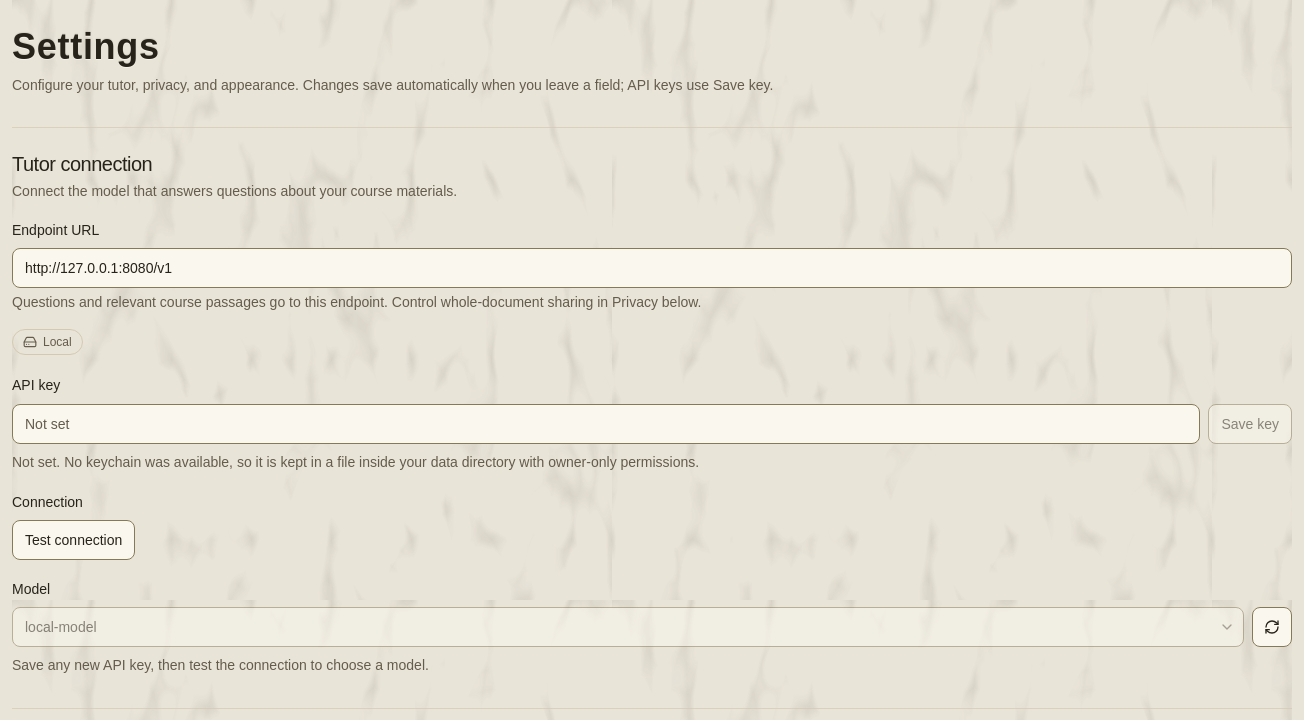
Test: retries the current API key and clears it after successful recovery
Step 1. Type "first-key" into the password field labelled "API key" → (606, 424), box [12, 404, 1200, 444]
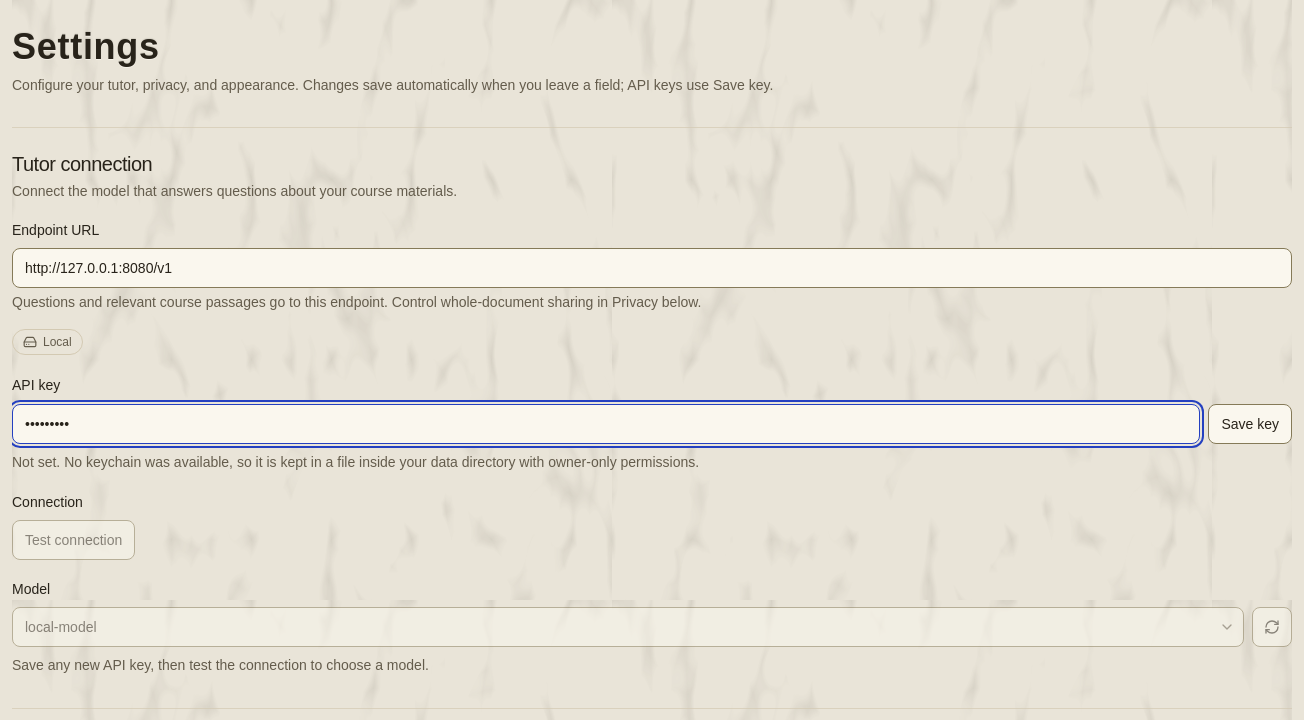
Step 2. Click the button "Save key" → (1250, 424), box [1208, 404, 1292, 444]
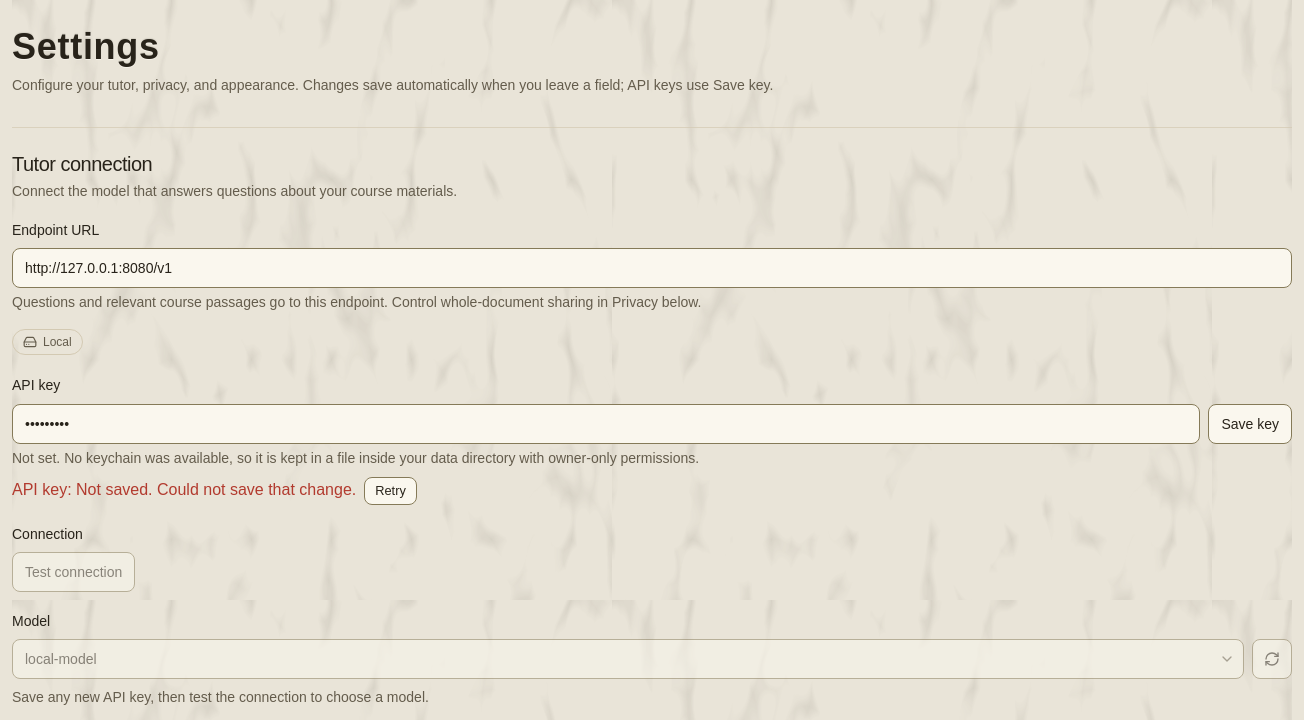
Check: the button with aria-label "Retry API key save" is shown, box [364, 476, 417, 504]
Step 3. Type "corrected-key" into the password field labelled "API key" → (606, 424), box [12, 404, 1200, 444]
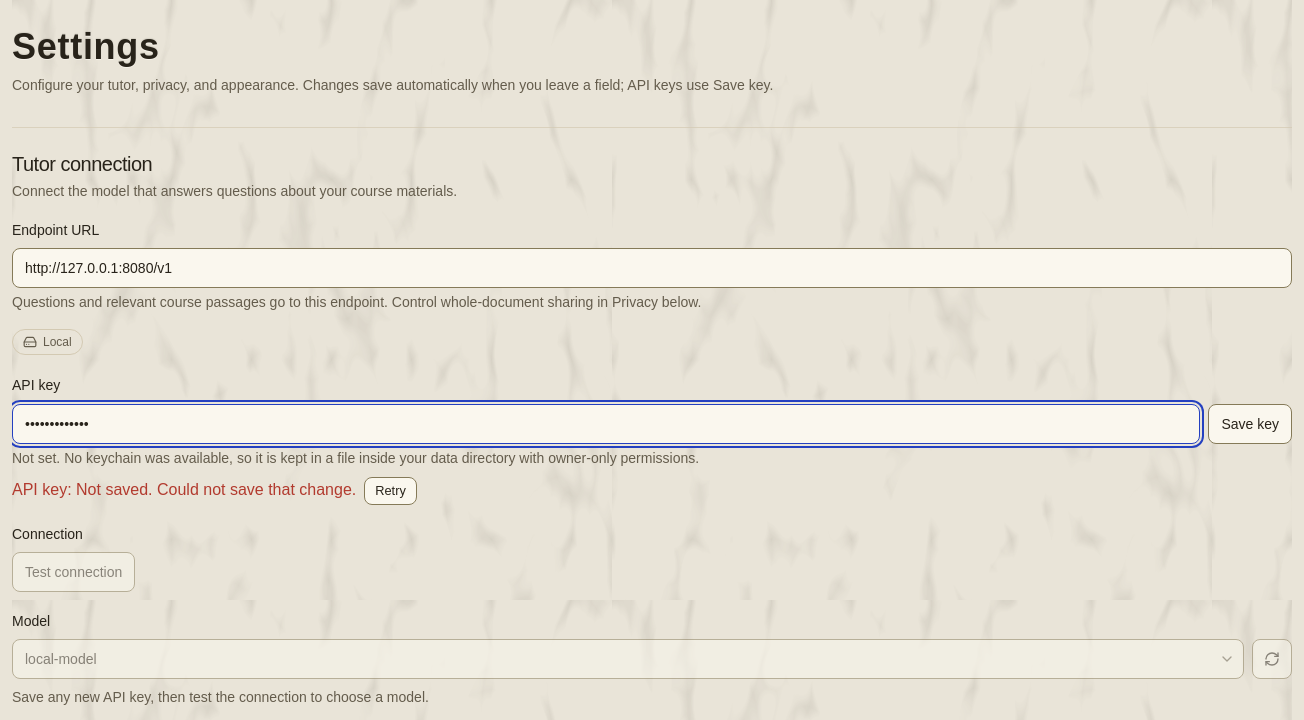
Step 4. Click the button with aria-label "Retry API key save" → (390, 490), box [364, 476, 417, 504]
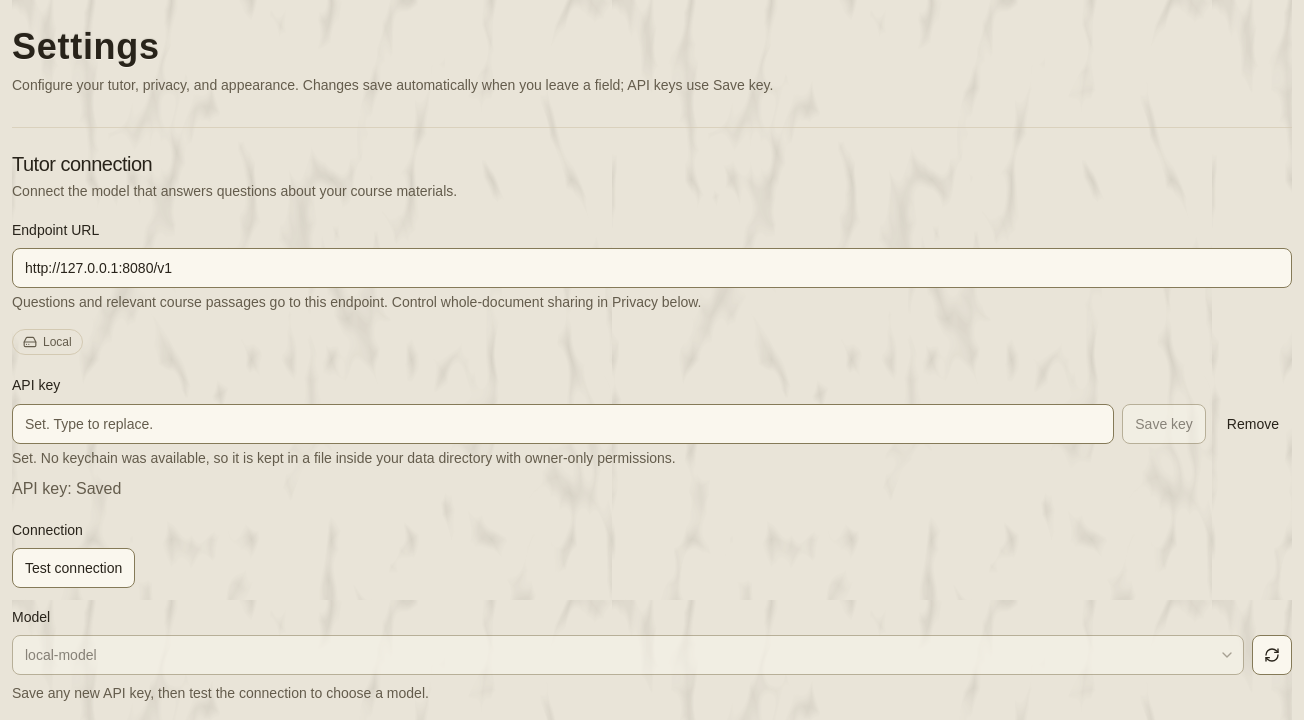
Check: the button "Test connection" is enabled, box [12, 548, 135, 588]
